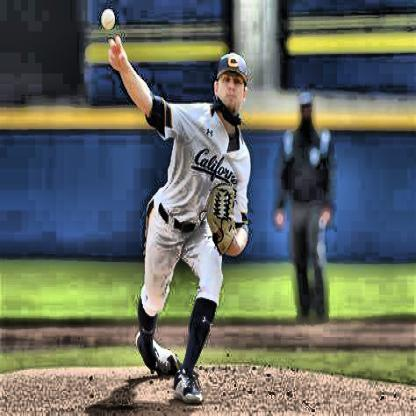baseball: (102, 9, 114, 32)
